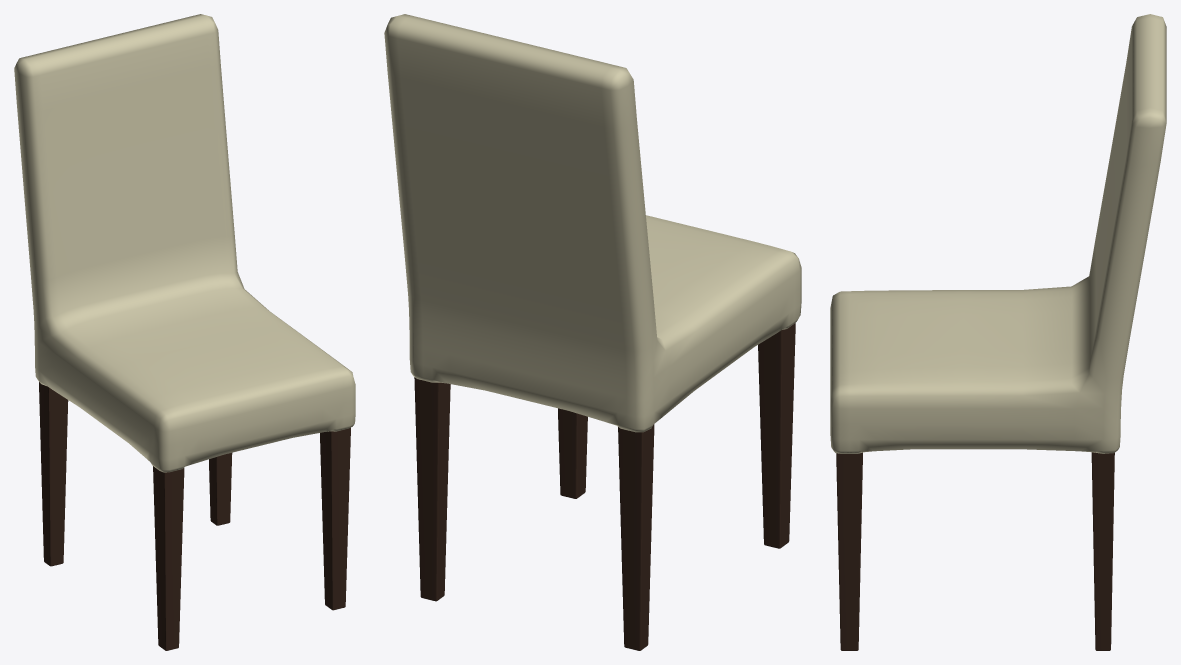
Rendered from Chair.dae.
The picture shows the model from 3 angles, left to right: view 1: azimuth 30°, elevation 25°; view 2: azimuth 150°, elevation 25°; view 3: azimuth 270°, elevation 25°; orthographic projection. The views are drawn at different scales.
Visible parts, largest first — view 1: polySurface6; view 2: polySurface6; view 3: polySurface6.
Boxes of the visible parts, x1,y1,x2,y2 form: polySurface6: (14, 14, 355, 650); polySurface6: (384, 14, 801, 650); polySurface6: (830, 14, 1166, 650).
Bounding box in the file's own units: 44 × 105 × 59.19.
